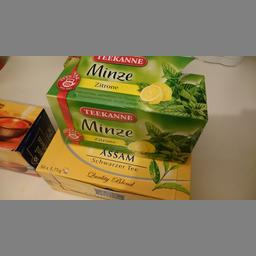tea: (46, 60, 206, 164), (0, 102, 50, 178)
